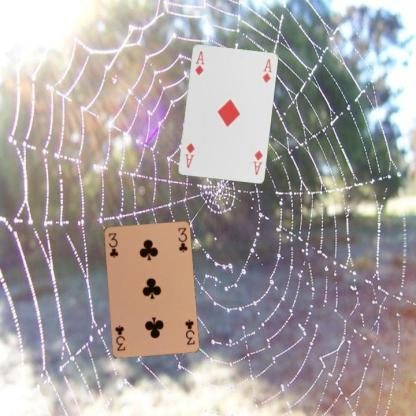3c: (182, 316, 196, 346), (106, 230, 119, 259)
Ad: (192, 48, 206, 76), (250, 148, 264, 176)
